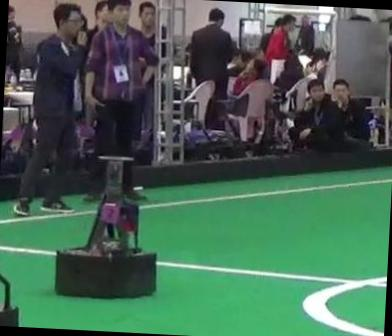person: (13, 3, 84, 217)
robot: (54, 157, 156, 299)
